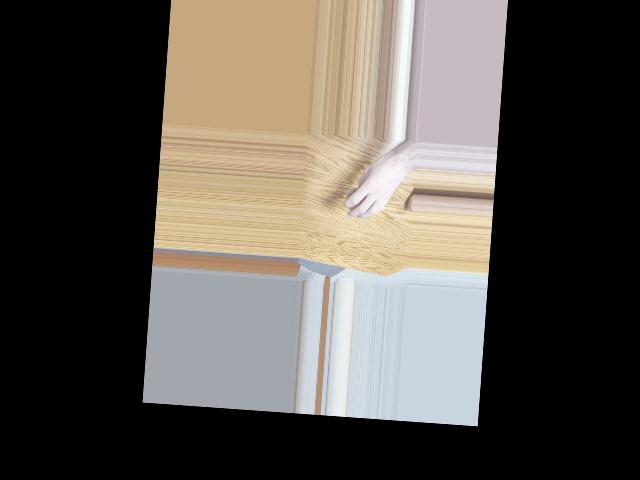onion: (345, 184, 369, 212)
